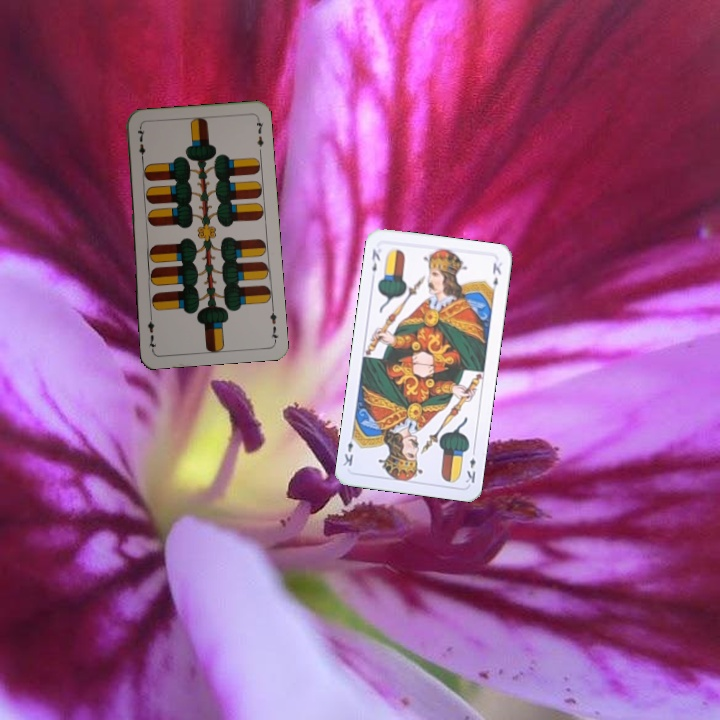E7: (133, 124, 148, 165), (266, 303, 281, 344)
EK: (462, 445, 478, 486), (368, 245, 383, 274)
